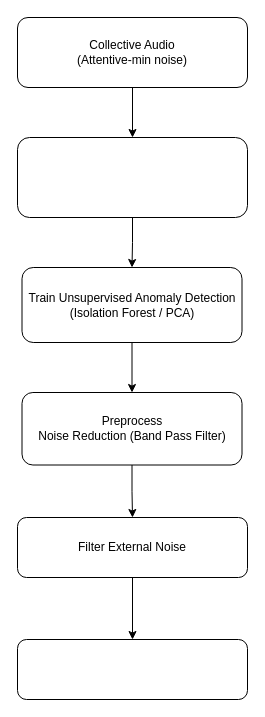
The diagram is 265 pixels wide and 717 high, and some of its shapes have lost their labels. The shapes that lost their labels are listed below. From the top down, each one's box as (x1, y1, x2, y2) in pixels, then its label:
(16, 136, 248, 218): Extract Features (Energy, ZCR, MFCC Variance, Speech fraction)
(16, 638, 248, 700): Attention Index
